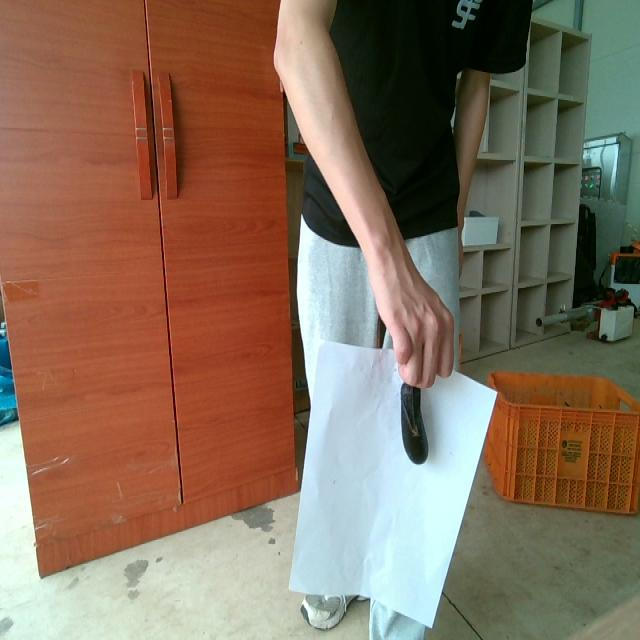Egg plant: (401, 383, 427, 463)
